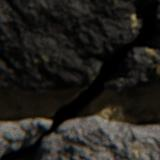broken_brick: (0, 0, 159, 90), (35, 115, 159, 159), (105, 5, 159, 89), (0, 117, 52, 155)
crack: (0, 2, 159, 159)
